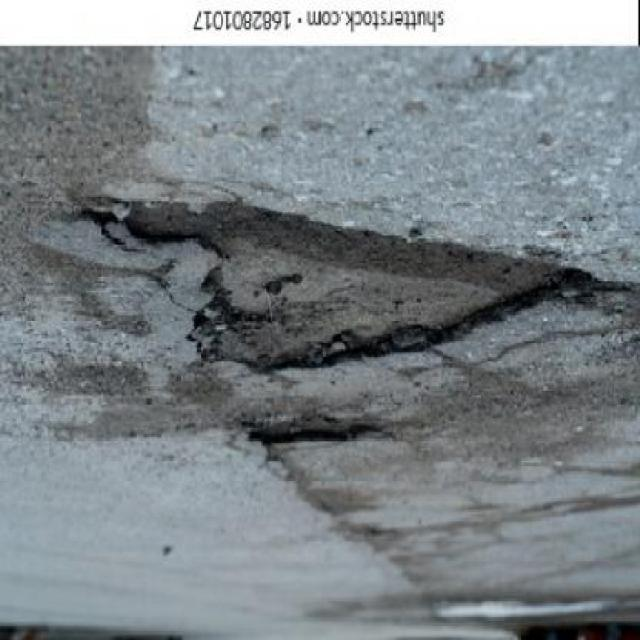pothole: (50, 160, 624, 391), (220, 398, 392, 468)
